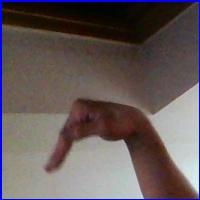A: (41, 94, 149, 179)
